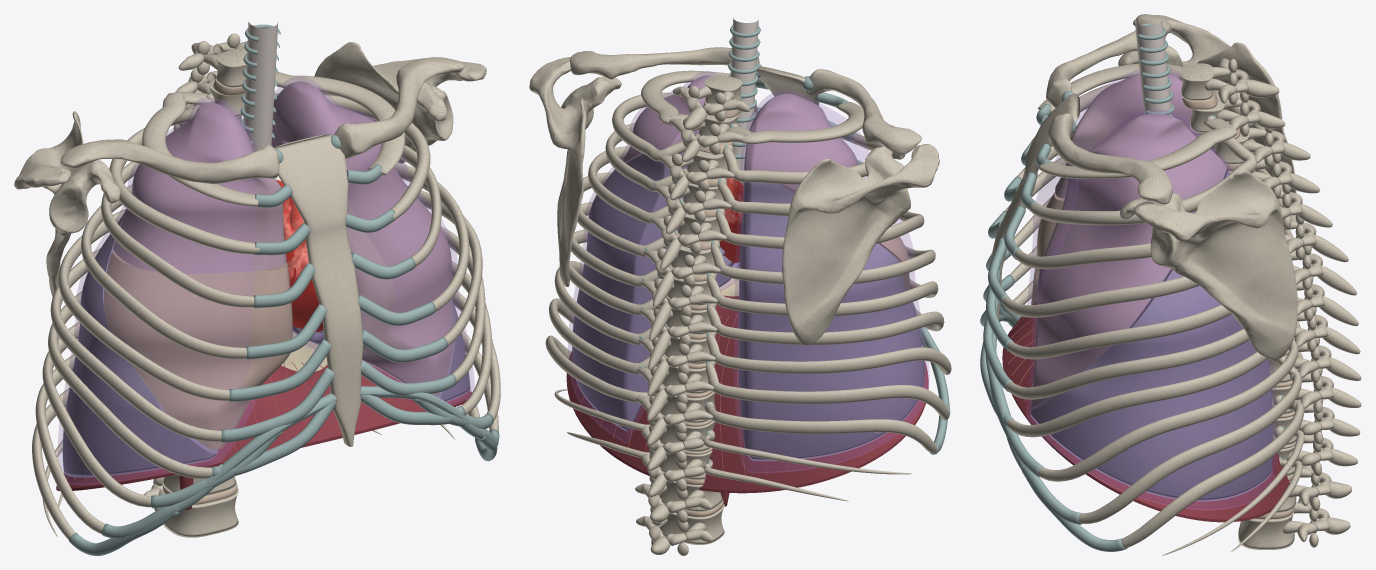
File: pleura-apices-nivelados.glb
3 renders of one model, left to right at view 1: azimuth 30°, elevation 25°; view 2: azimuth 150°, elevation 25°; view 3: azimuth 270°, elevation 25°, orthographic. The views are drawn at different scales.
Parts seen in each view (by area): view 1: lobo_medio_D, lobo_superior_E, pleura_visceral_lobo_medio_D, pleura_visceral_lobo_superior_E, lobo_superior_D, pleura_visceral_lobo_superior_D, caixa_toracica_osso, lobo_inferior_D, pleura_visceral_lobo_inferior_D, coluna_osso, diafragma_diafragma, escapula_D (+46 smaller); view 2: coluna_osso, lobo_inferior_D, pleura_visceral_lobo_inferior_D, escapula_D, lobo_inferior_E, pleura_visceral_lobo_inferior_E, diafragma_diafragma, escapula_E, lobo_superior_D, pleura_visceral_lobo_superior_D, pleura_parietal_D, costela_articulada_D_9_osso (+32 smaller); view 3: coluna_osso, lobo_inferior_E, pleura_visceral_lobo_inferior_E, lobo_superior_E, escapula_E, pleura_visceral_lobo_superior_E, diafragma_diafragma, pleura_parietal_E, costela_articulada_E_8_osso, lobo_superior_D, escapula_D, costela_articulada_E_7_osso (+28 smaller).
Part boxes in pixels (bbox=[...]): lobo_medio_D: bbox=[104, 251, 292, 449]; lobo_superior_E: bbox=[271, 81, 453, 395]; pleura_visceral_lobo_medio_D: bbox=[104, 251, 292, 449]; pleura_visceral_lobo_superior_E: bbox=[272, 81, 453, 395]; lobo_superior_D: bbox=[113, 102, 286, 273]; pleura_visceral_lobo_superior_D: bbox=[113, 102, 286, 273]; caixa_toracica_osso: bbox=[274, 134, 363, 446]; lobo_inferior_D: bbox=[62, 209, 217, 477]; pleura_visceral_lobo_inferior_D: bbox=[62, 214, 217, 477]; coluna_osso: bbox=[143, 33, 246, 537]; diafragma_diafragma: bbox=[56, 363, 471, 509]; escapula_D: bbox=[14, 111, 120, 296]; coluna_osso: bbox=[635, 75, 749, 555]; lobo_inferior_D: bbox=[738, 182, 924, 461]; pleura_visceral_lobo_inferior_D: bbox=[738, 183, 924, 459]; escapula_D: bbox=[782, 144, 939, 345]; lobo_inferior_E: bbox=[572, 154, 739, 431]; pleura_visceral_lobo_inferior_E: bbox=[572, 154, 734, 429]; diafragma_diafragma: bbox=[566, 295, 928, 506]; escapula_E: bbox=[529, 57, 621, 287]; lobo_superior_D: bbox=[744, 94, 857, 192]; pleura_visceral_lobo_superior_D: bbox=[744, 94, 857, 191]; pleura_parietal_D: bbox=[734, 90, 929, 472]; costela_articulada_D_9_osso: bbox=[705, 361, 949, 420]; coluna_osso: bbox=[1181, 58, 1361, 549]; lobo_inferior_E: bbox=[1030, 170, 1272, 501]; pleura_visceral_lobo_inferior_E: bbox=[1031, 171, 1273, 499]; lobo_superior_E: bbox=[1031, 113, 1226, 407]; escapula_E: bbox=[1120, 170, 1297, 360]; pleura_visceral_lobo_superior_E: bbox=[1031, 113, 1226, 406]; diafragma_diafragma: bbox=[1002, 302, 1289, 522]; pleura_parietal_E: bbox=[1026, 109, 1277, 509]; costela_articulada_E_8_osso: bbox=[1038, 339, 1298, 481]; lobo_superior_D: bbox=[1055, 73, 1202, 198]; escapula_D: bbox=[1118, 15, 1296, 203]; costela_articulada_E_7_osso: bbox=[1006, 351, 1267, 437].
Size of the model in its own units: 0.3052 by 0.3483 by 0.231.
Materials: 15 (2 with a texture image).
